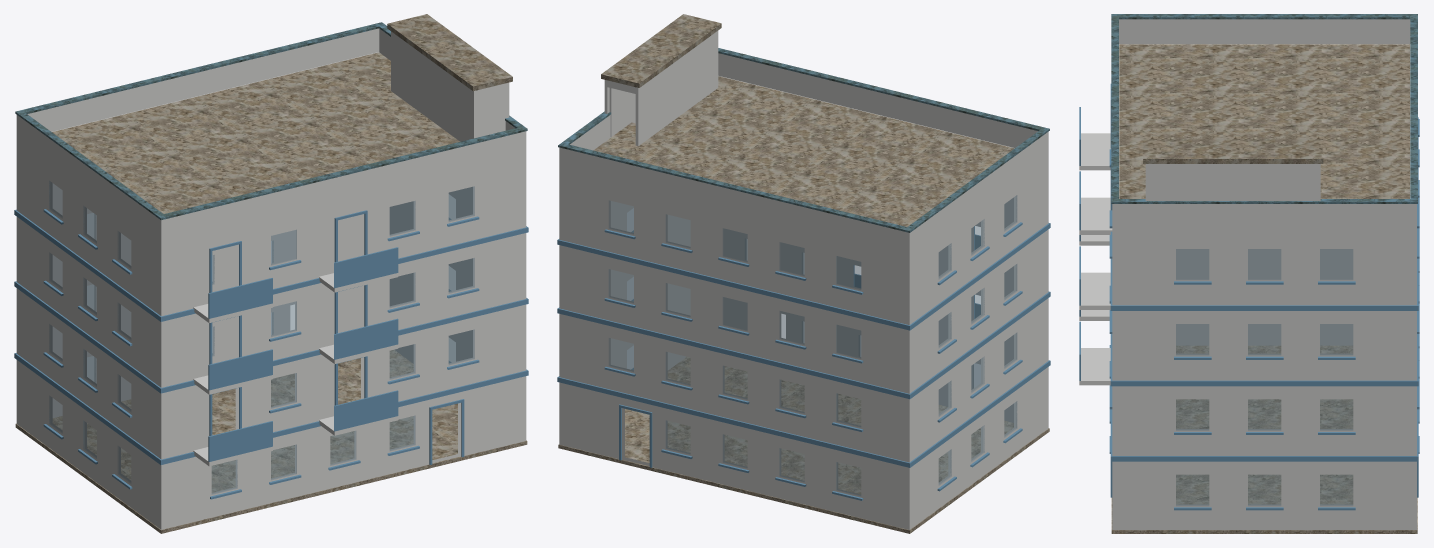
File: bay-apartments.reveal-v1.lod1.glb
3 renders of one model, left to right at view 1: azimuth 30°, elevation 25°; view 2: azimuth 150°, elevation 25°; view 3: azimuth 270°, elevation 25°, orthographic. The views are drawn at different scales.
Visible parts, largest first — view 1: bay-apartments; view 2: bay-apartments; view 3: bay-apartments.
Part boxes in pixels (<box>): bay-apartments: <box>14,14,528,533</box>; bay-apartments: <box>557,14,1050,533</box>; bay-apartments: <box>1079,14,1419,533</box>.
Size of the model in its own units: 16.2 by 14.97 by 12.3.
3 materials, 1 textured.
